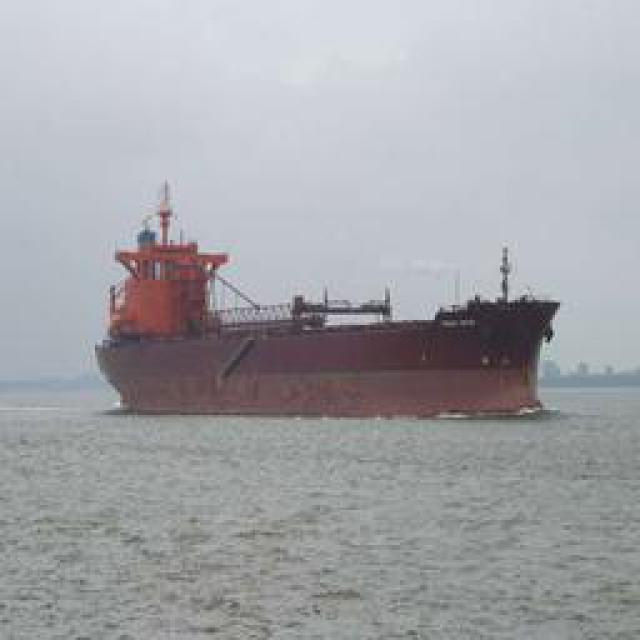Ship: (96, 181, 551, 414)
